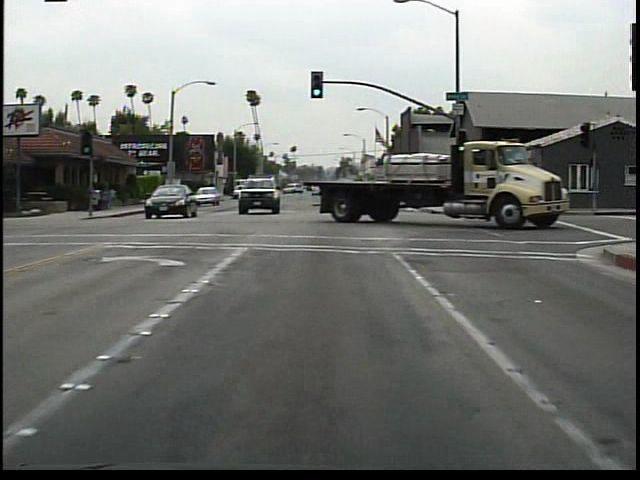person: (177, 182, 194, 206)
